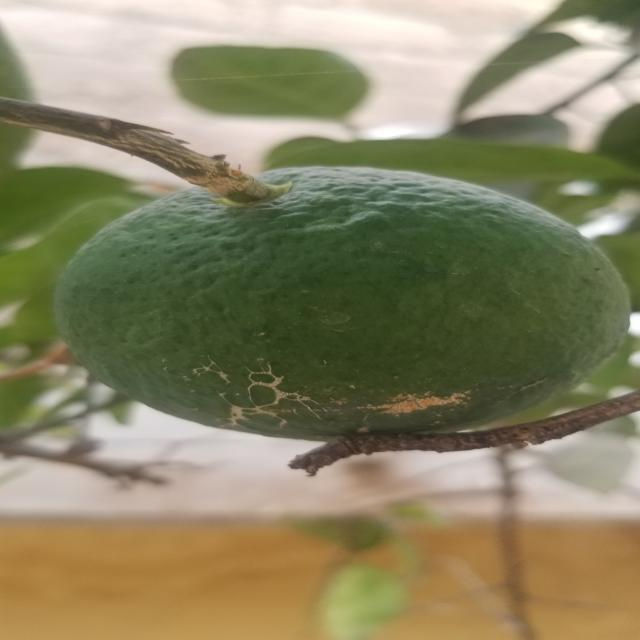Unripe: (49, 156, 640, 465)
